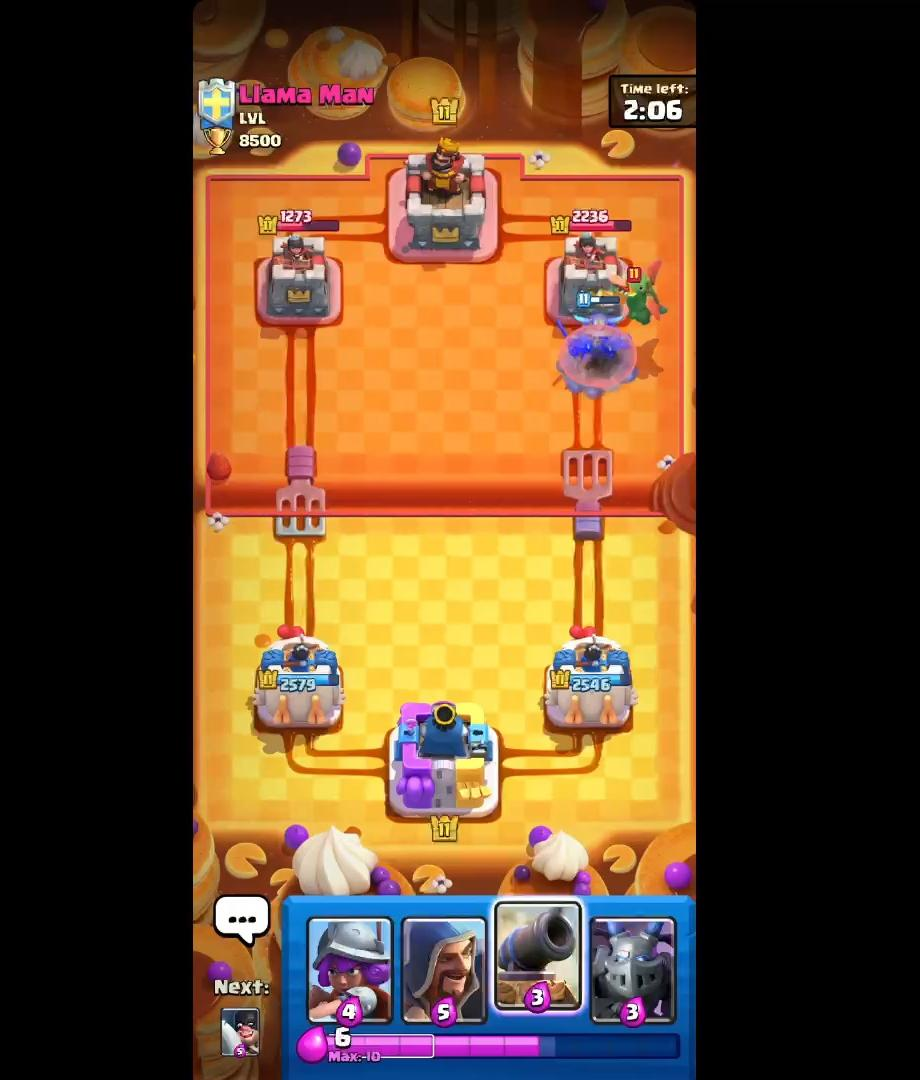Baby Dragon: (600, 257, 672, 333)
